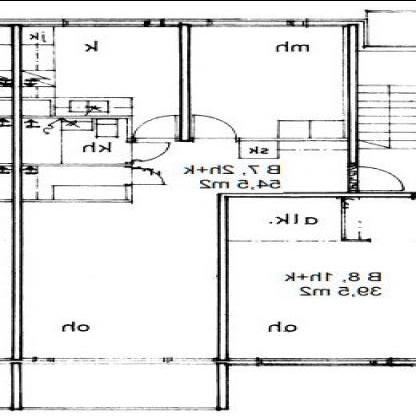door: (346, 165, 407, 193), (191, 111, 239, 141), (134, 113, 179, 141), (128, 140, 174, 163), (126, 165, 172, 188)
window: (204, 15, 311, 30), (60, 16, 167, 28)
